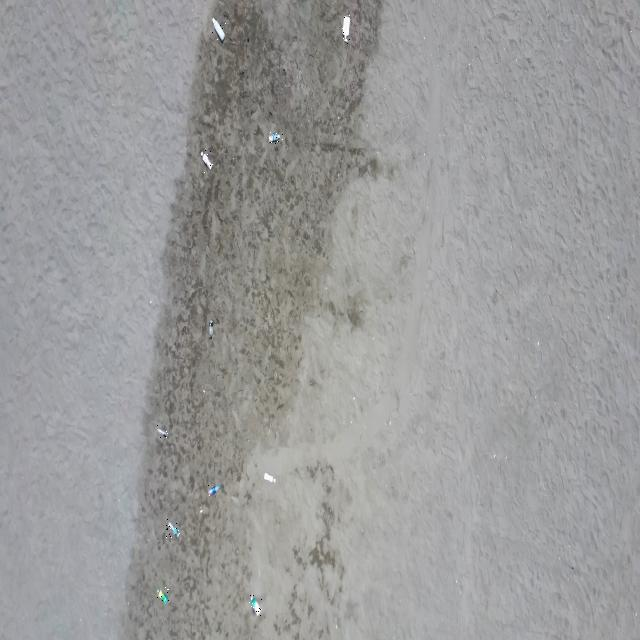plastic-bottle: (198, 149, 214, 173), (212, 19, 226, 43), (249, 594, 262, 616), (342, 14, 351, 44), (156, 586, 169, 606), (167, 519, 180, 539), (263, 471, 277, 487), (208, 319, 216, 342), (158, 425, 172, 438), (270, 132, 284, 144), (208, 484, 222, 496)
